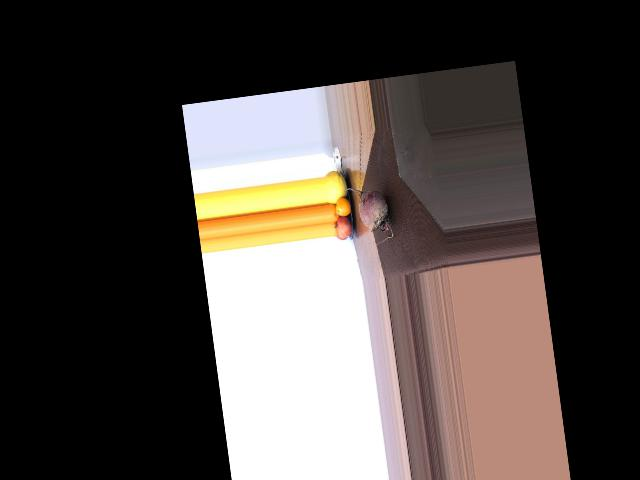beet: (342, 182, 394, 247)
